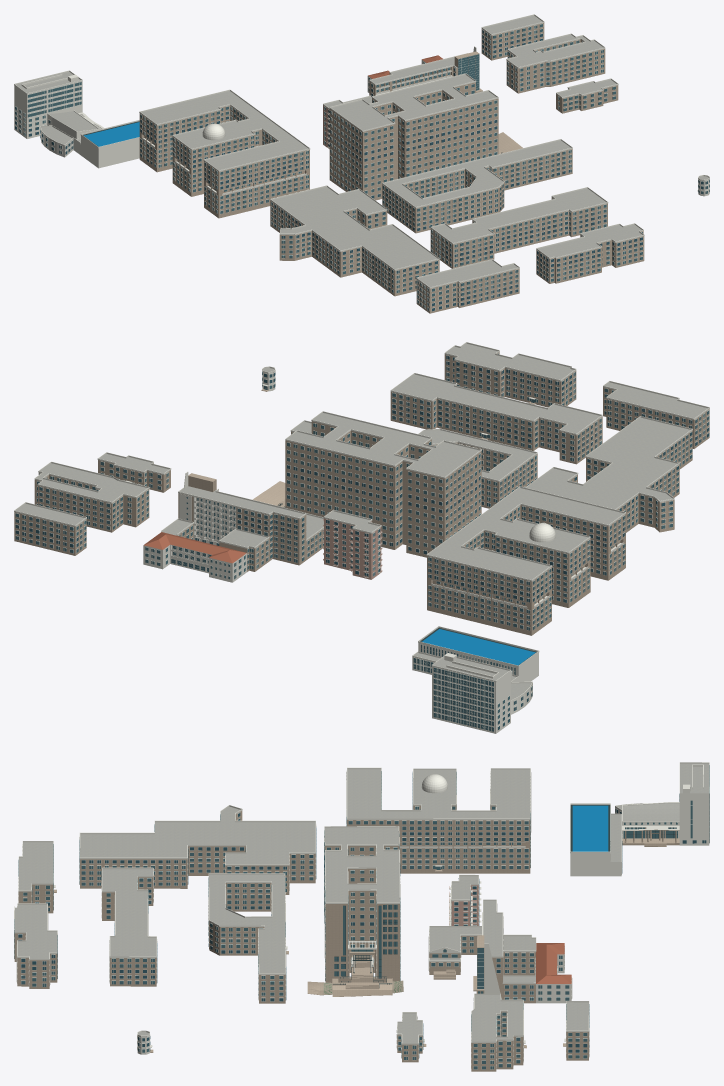
The model's file is chunk-n2-n3.glb.
The picture shows the model from 3 angles, top to bottom: view 1: azimuth 30°, elevation 25°; view 2: azimuth 150°, elevation 25°; view 3: azimuth 270°, elevation 25°; orthographic projection. The views are drawn at different scales.
Visible parts, largest first — view 1: chunk-n2-n3; view 2: chunk-n2-n3; view 3: chunk-n2-n3.
Boxes of the visible parts, box(x1,y1,x2,y2) form: chunk-n2-n3: box(14, 14, 709, 313); chunk-n2-n3: box(14, 342, 709, 733); chunk-n2-n3: box(14, 762, 709, 1071).
Bounding box in the file's own units: 346 × 52.77 × 373.
Materials: 13 (5 with a texture image).
